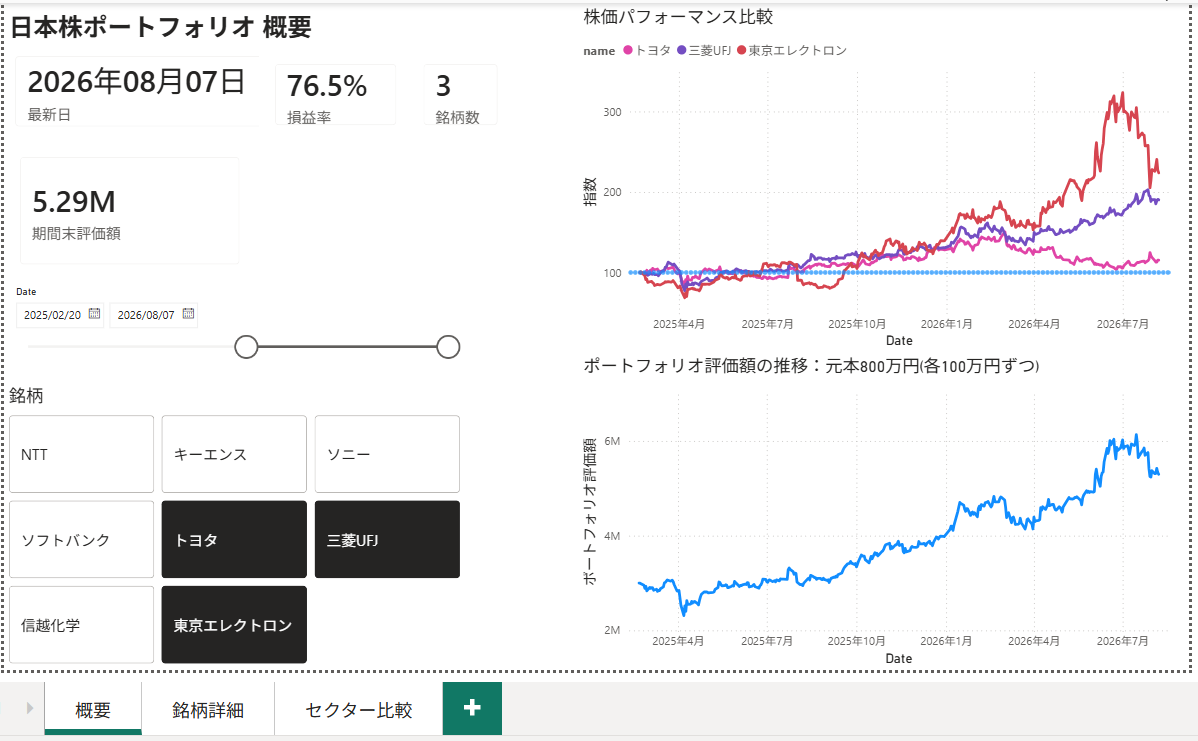

The page's visual inventory and layout, read from the dashboard file:
{"tool":"powerbi","page":{"name":"概要","canvas":[1280,720],"ordinal":0},"visuals":[{"type":"cardVisual","fields":{"Data":["prices.最新日"]},"box":[0,44.8,293.7,100.3],"z":0},{"type":"cardVisual","fields":{"Data":["prices.平均終値"]},"box":[275.8,48.4,165.7,100.3],"z":1000},{"type":"cardVisual","fields":{"Data":["prices.銘柄数"]},"box":[435.2,48.4,114.6,100],"z":2000},{"type":"lineChart","title":"株価パフォーマンス比較","fields":{"Category":["dim_date.Date"],"Series":["symbols.name"],"Y":["prices.指数"]},"box":[619.7,0,660,377.4],"z":3000},{"type":"textbox","box":[0,0,354,48.6],"z":4000},{"type":"advancedSlicerVisual","title":"銘柄","fields":{"Values":["symbols.name"]},"box":[0,409.3,499.8,311.1],"z":5000},{"type":"slicer","fields":{"Values":["dim_date.Date"]},"box":[0,299.1,500.7,106.7],"z":6000},{"type":"lineChart","title":"ポートフォリオ評価額の推移：元本800万円(各100万円ずつ)","fields":{"Category":["dim_date.Date"],"Y":["prices.ポートフォリオ評価額"]},"box":[619.7,377,660,343],"z":7000},{"type":"cardVisual","fields":{"Data":["prices.現在評価額"]},"box":[0,148.7,271,150],"z":8000}]}

Visuals, with their boxes on the page's 1280x720 design canvas (x1, y1, x2, y2). These are canvas units, not pixel positions in the 1198x741 screenshot, which may show the page scaled, cropped or inside an application window:
cardVisual - prices.最新日: (0, 45, 294, 145)
cardVisual - prices.平均終値: (276, 48, 442, 149)
cardVisual - prices.銘柄数: (435, 48, 550, 148)
"株価パフォーマンス比較" lineChart: (620, 0, 1280, 377)
textbox: (0, 0, 354, 49)
"銘柄" advancedSlicerVisual: (0, 409, 500, 720)
slicer - dim_date.Date: (0, 299, 501, 406)
"ポートフォリオ評価額の推移：元本800万円(各100万円ずつ)" lineChart: (620, 377, 1280, 720)
cardVisual - prices.現在評価額: (0, 149, 271, 299)
